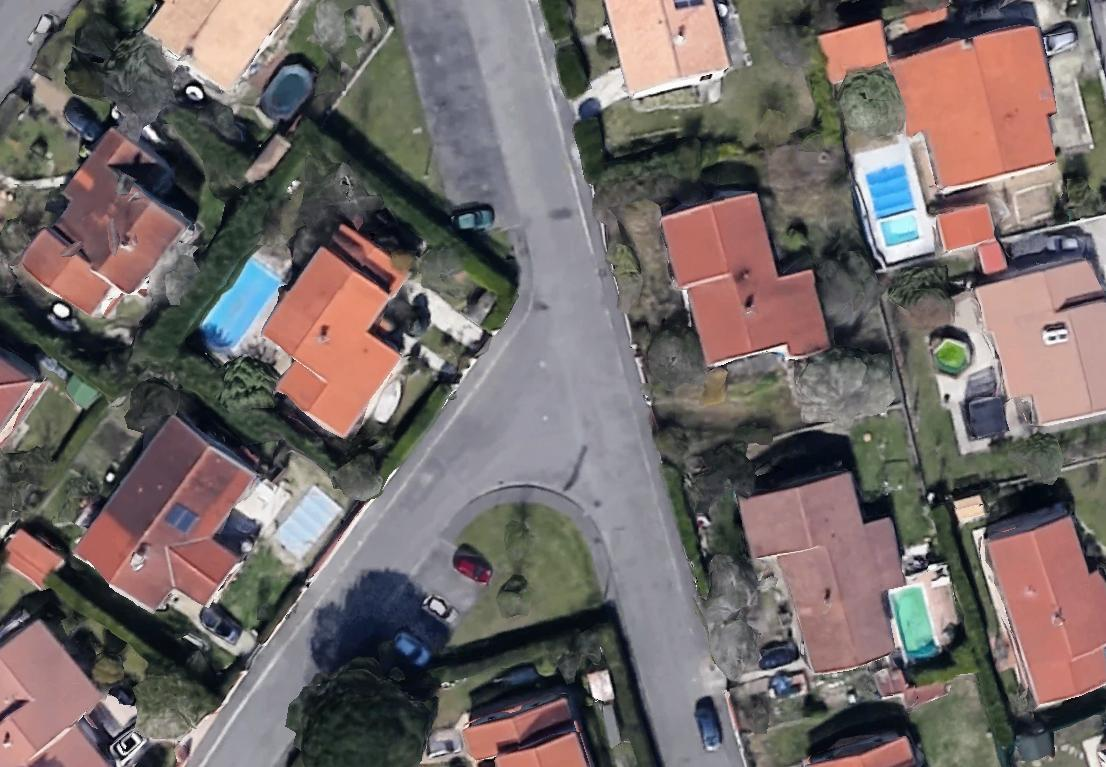maison: (69, 410, 286, 637), (731, 451, 939, 687), (234, 217, 445, 441), (5, 120, 217, 338), (654, 174, 839, 388), (886, 19, 1069, 198), (963, 493, 1106, 713), (972, 256, 1106, 432), (0, 623, 106, 766), (141, 0, 294, 93), (604, 0, 734, 101), (458, 693, 590, 767), (0, 348, 46, 445), (810, 736, 914, 767)
